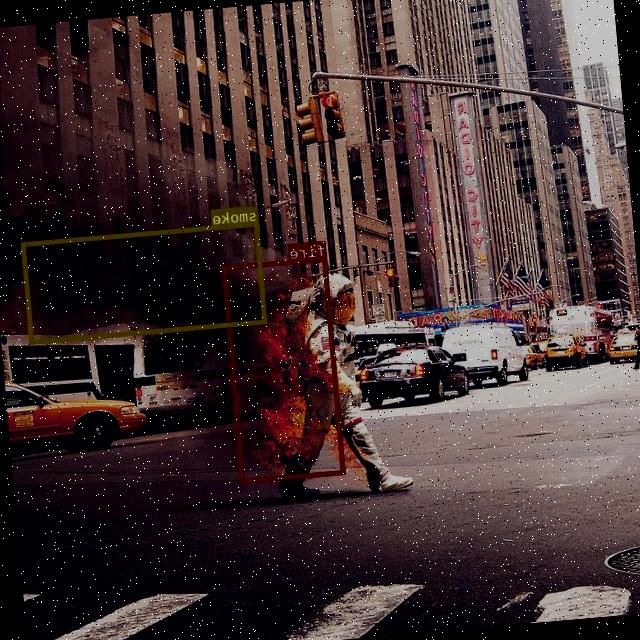fire: (222, 256, 346, 482)
smoke: (21, 221, 268, 343)
